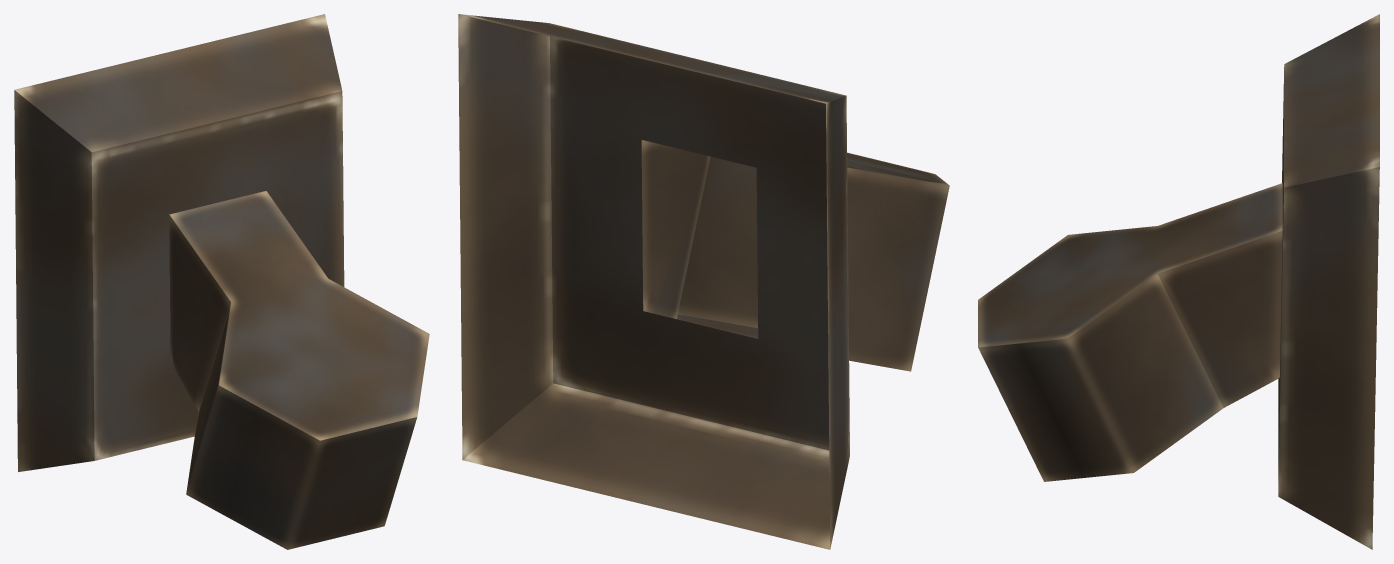
The model's file is TorchSupport.FBX.
The picture shows the model from 3 angles, left to right: view 1: azimuth 30°, elevation 25°; view 2: azimuth 150°, elevation 25°; view 3: azimuth 270°, elevation 25°; orthographic projection. The views are drawn at different scales.
Visible parts, largest first — view 1: TorchSupport; view 2: TorchSupport; view 3: TorchSupport.
Boxes of the visible parts, x1=… form: TorchSupport: x1=14, y1=14, x2=429, y2=549; TorchSupport: x1=458, y1=14, x2=949, y2=549; TorchSupport: x1=978, y1=14, x2=1379, y2=549.
Bounding box in the file's own units: 0.4847 × 0.5381 × 0.566.
